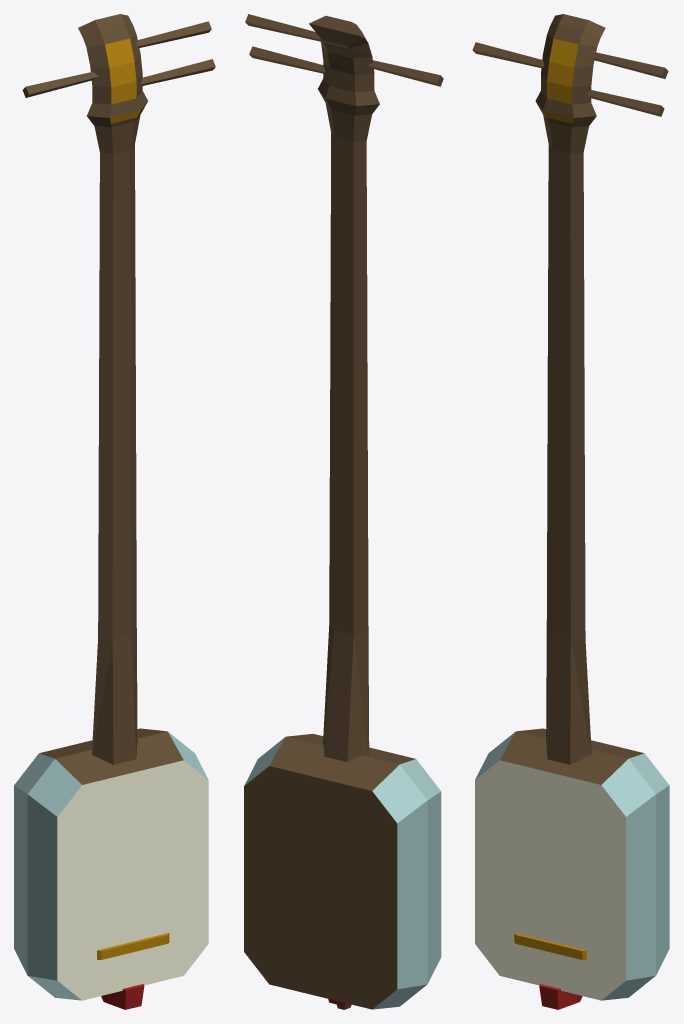
The model's file is Asian_Prop_Music_Instrument_Shamisen_01.FBX.
The picture shows the model from 3 angles, left to right: view 1: azimuth 30°, elevation 25°; view 2: azimuth 150°, elevation 25°; view 3: azimuth 330°, elevation 25°; orthographic projection.
Parts seen in each view (by area): view 1: Asian_Prop_Music_Instrument_Shamisen_01; view 2: Asian_Prop_Music_Instrument_Shamisen_01; view 3: Asian_Prop_Music_Instrument_Shamisen_01.
Part boxes in pixels (x1=…): Asian_Prop_Music_Instrument_Shamisen_01: x1=14, y1=14, x2=215, y2=1009; Asian_Prop_Music_Instrument_Shamisen_01: x1=244, y1=14, x2=443, y2=1009; Asian_Prop_Music_Instrument_Shamisen_01: x1=472, y1=14, x2=669, y2=1009.
Size of the model in its own units: 257 by 1289 by 109.
